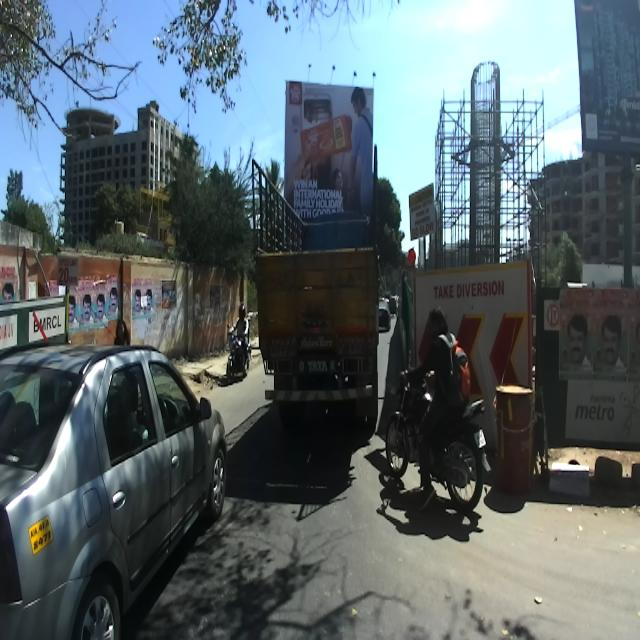car ahead at: (0, 335, 232, 640)
motorcycle ahead at: (384, 369, 488, 515)
truck ahead at: (241, 143, 383, 429)
